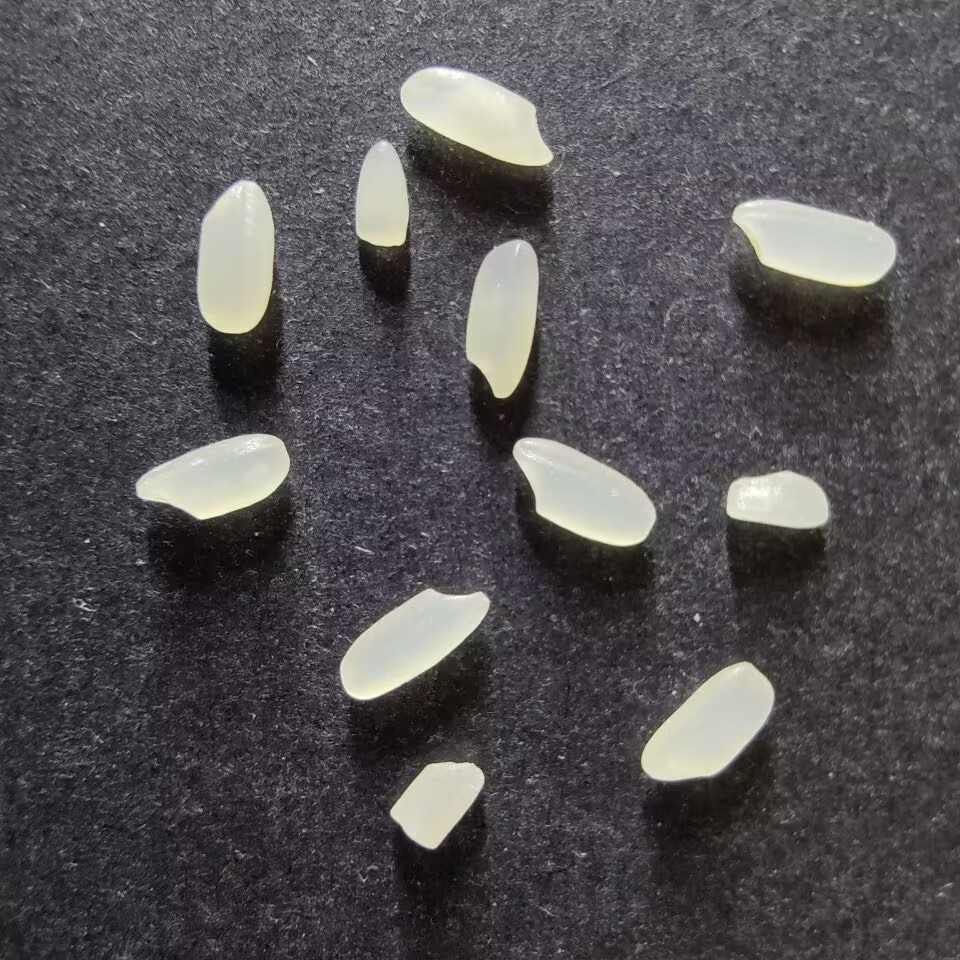broken: (388, 760, 484, 850), (725, 470, 830, 529), (353, 140, 409, 248)
rice: (339, 586, 489, 700), (511, 436, 657, 548), (640, 660, 773, 782), (399, 65, 554, 167), (730, 199, 896, 287), (135, 433, 289, 519), (464, 239, 539, 398), (196, 180, 273, 334)
